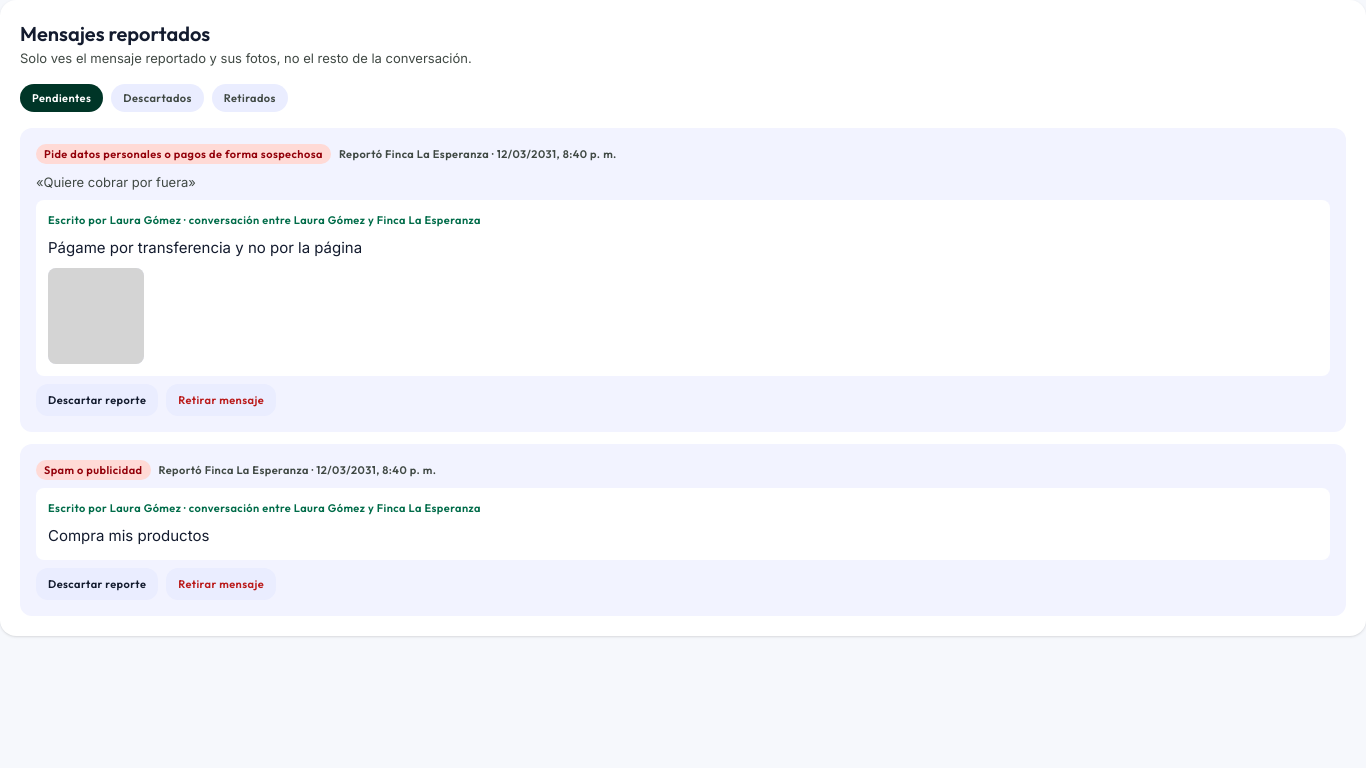
ReportesMensajesAdmin › se pueden ver los reportes ya resueltos, sin botones de acción
Expected: the text "Compra mis productos" is shown, [48,526,209,545]
Click the button "Retirados". click: [250, 98]
box: [212,84,288,112]
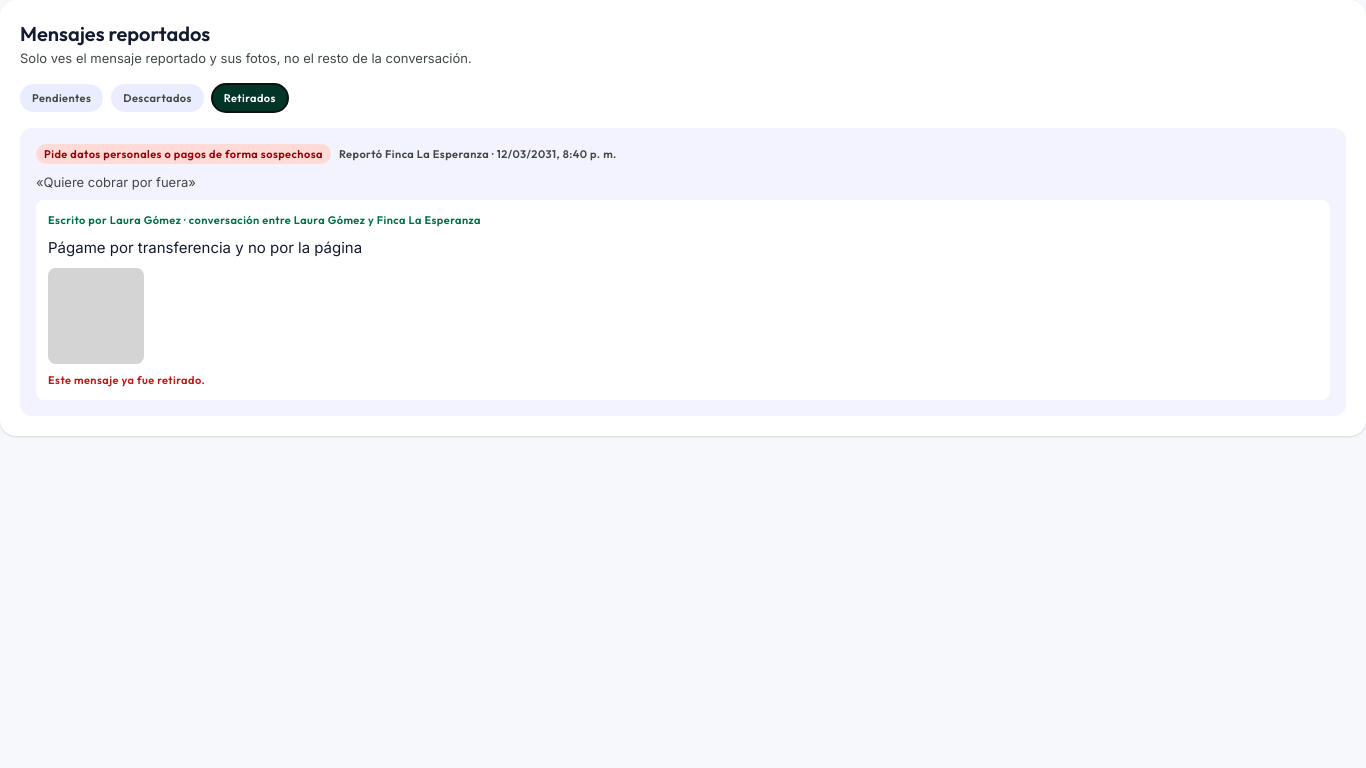
Now the text "Este mensaje ya fue retirado." is shown, box [48,373,205,387]
Now the button "Retirar mensaje" is gone
Now the button "Descartar reporte" is gone
